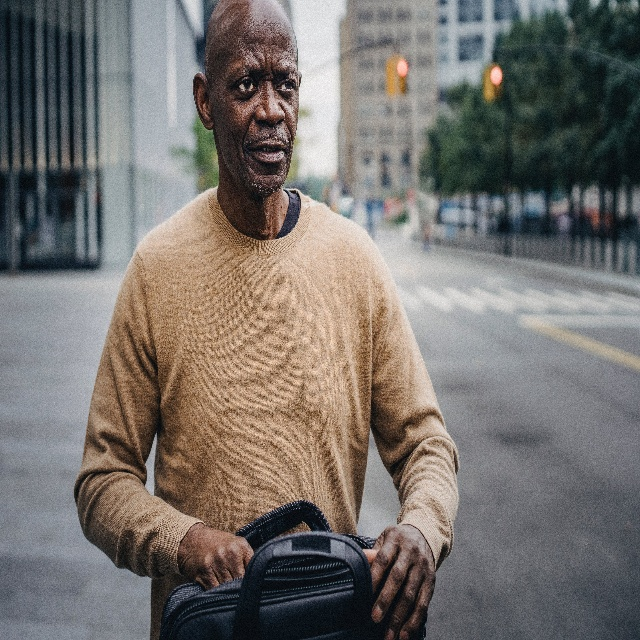Sin_guantes: (361, 514, 436, 640), (190, 522, 255, 593)
